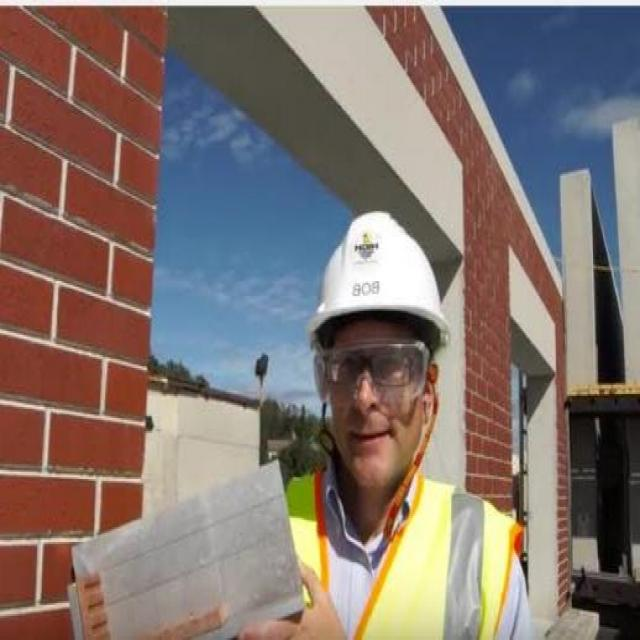Reflective-Jacket: (273, 466, 523, 640)
Safety-Helmet: (300, 202, 452, 353)
